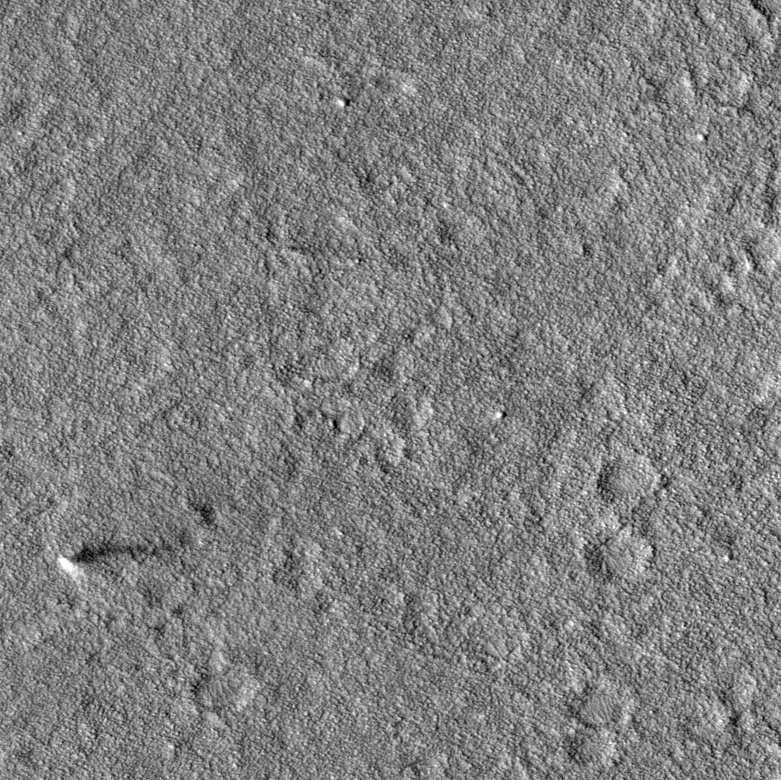dust_devil: (54, 535, 174, 585)
